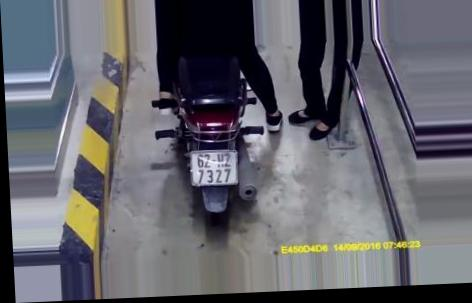License_Plate: (186, 145, 243, 190)
